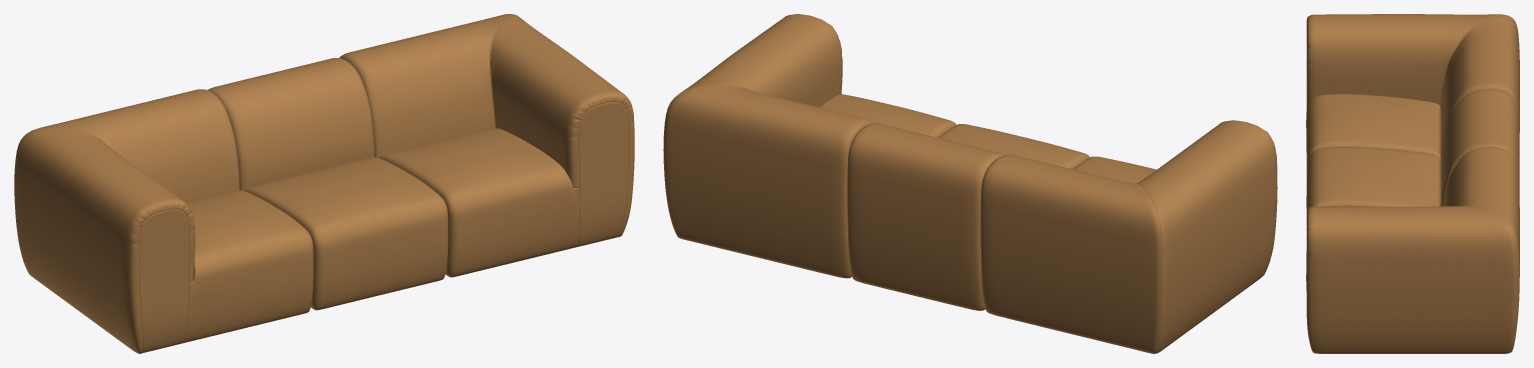
Rendered from stockholm_2025_3_seat_sofa_alhamn_beige.glb.
3 views of the same model, side by side, from view 1: azimuth 30°, elevation 25°; view 2: azimuth 150°, elevation 25°; view 3: azimuth 270°, elevation 25° (orthographic). The views are drawn at different scales.
Parts seen in each view (by area): view 1: 89574293_09574292_00, 89574293_09574292_02, 89574293_09574292_05; view 2: 89574293_09574292_00, 89574293_09574292_02, 89574293_09574292_05; view 3: 89574293_09574292_02, 89574293_09574292_00, 89574293_09574292_05.
Part boxes in pixels (box(x1,y1,x2,y2)): 89574293_09574292_00: box(14, 89, 313, 353); 89574293_09574292_02: box(339, 14, 634, 277); 89574293_09574292_05: box(207, 58, 448, 310); 89574293_09574292_00: box(980, 120, 1277, 353); 89574293_09574292_02: box(663, 14, 956, 278); 89574293_09574292_05: box(847, 123, 1089, 310); 89574293_09574292_02: box(1306, 147, 1519, 353); 89574293_09574292_00: box(1306, 14, 1519, 173); 89574293_09574292_05: box(1306, 89, 1519, 212).
Bounding box in the file's own units: 2.43 × 0.7 × 0.99.
2 materials, 1 textured.
